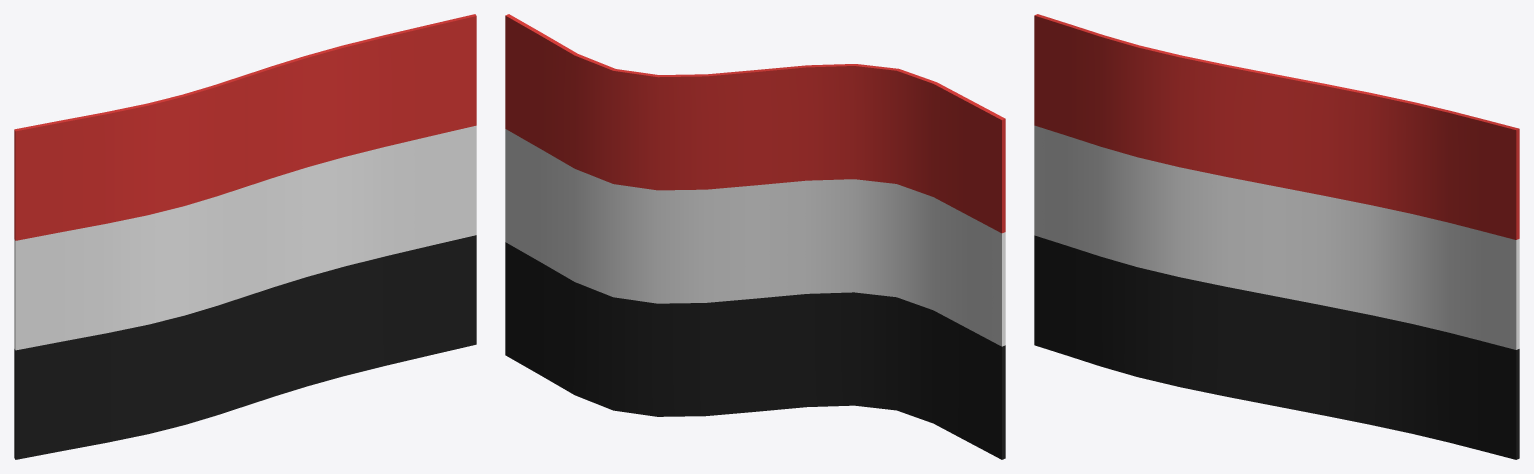
The model's file is flag_yemen.gltf.
3 renders of one model, left to right at view 1: azimuth 30°, elevation 25°; view 2: azimuth 150°, elevation 25°; view 3: azimuth 330°, elevation 25°, orthographic. The views are drawn at different scales.
Parts seen in each view (by area): view 1: flag_yemen; view 2: flag_yemen; view 3: flag_yemen.
Part boxes in pixels (x1,y1,x2,y2): flag_yemen: [14, 14, 476, 459]; flag_yemen: [505, 14, 1005, 459]; flag_yemen: [1034, 14, 1519, 459].
Bounding box in the file's own units: 2.18 × 1.58 × 0.3373.
1 material, 1 textured.
